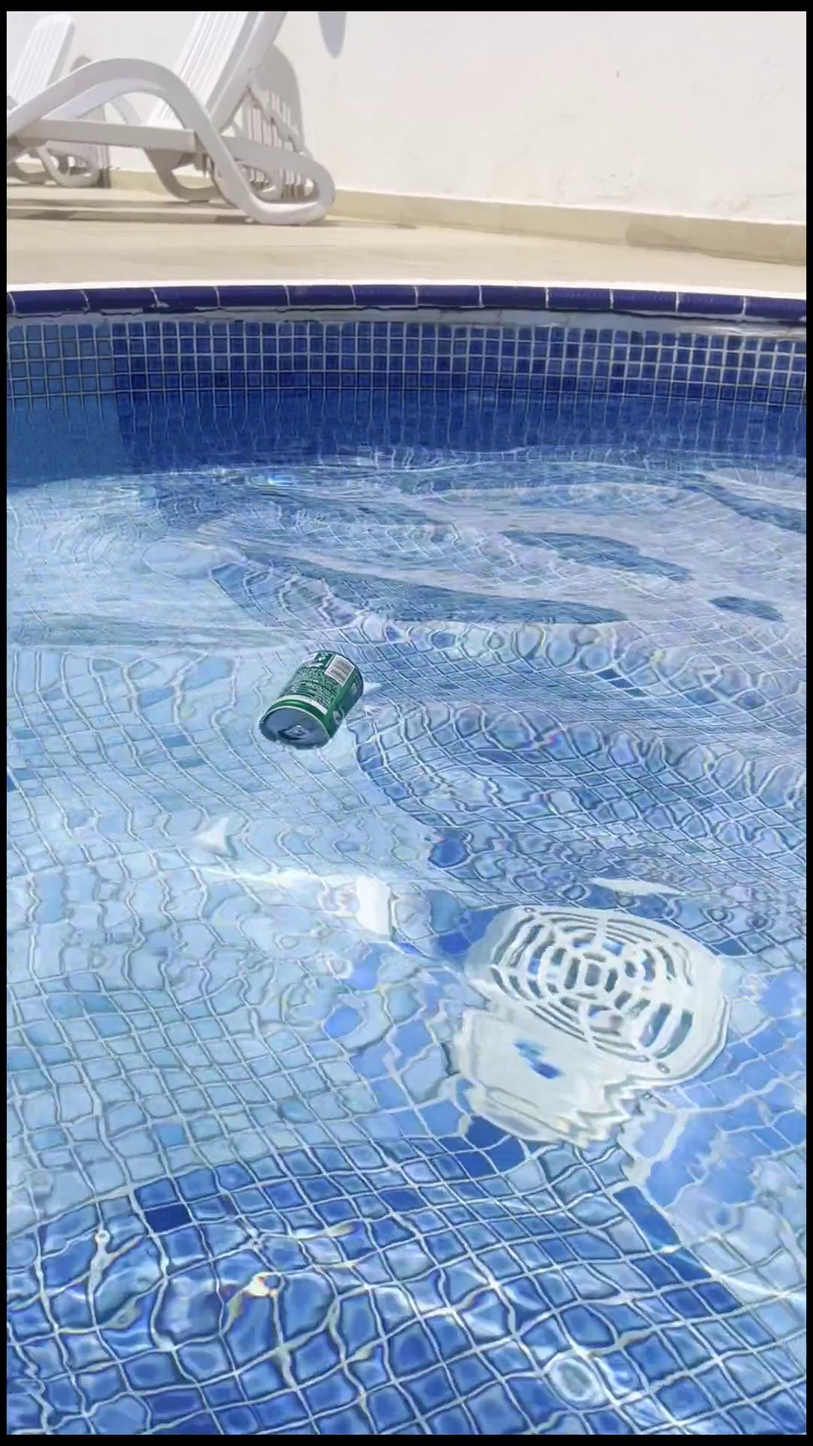debris: (257, 624, 365, 763)
